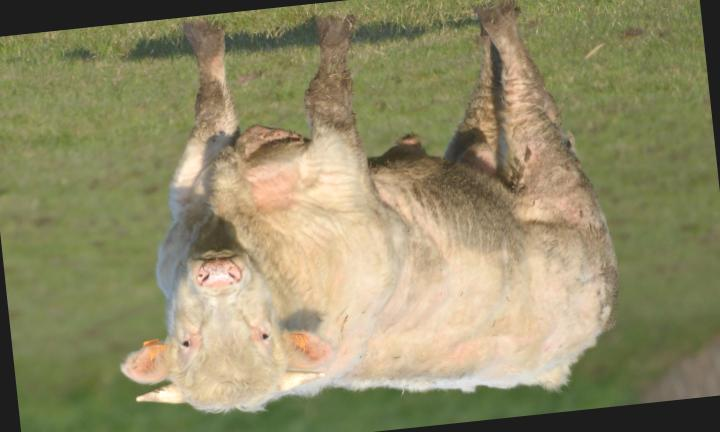Charolais: (122, 3, 617, 412)
